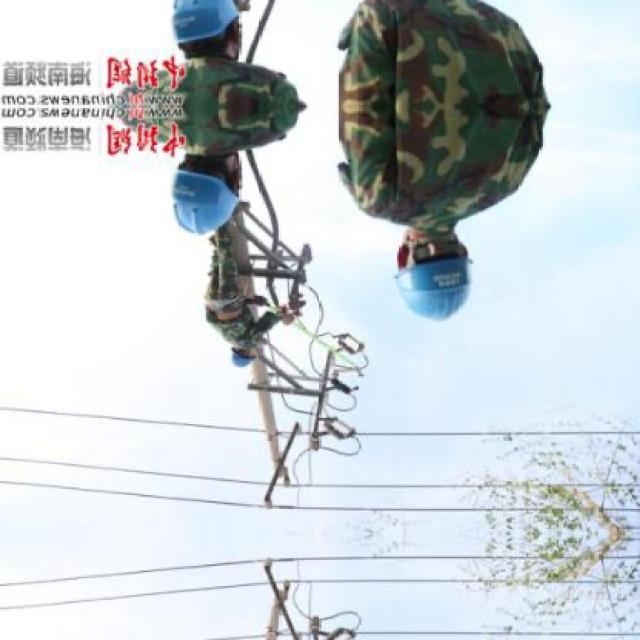con casco: (178, 146, 273, 247), (383, 230, 493, 310), (212, 336, 286, 376)
